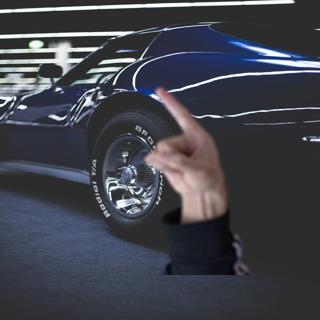IRRITATED: (142, 84, 225, 194)
